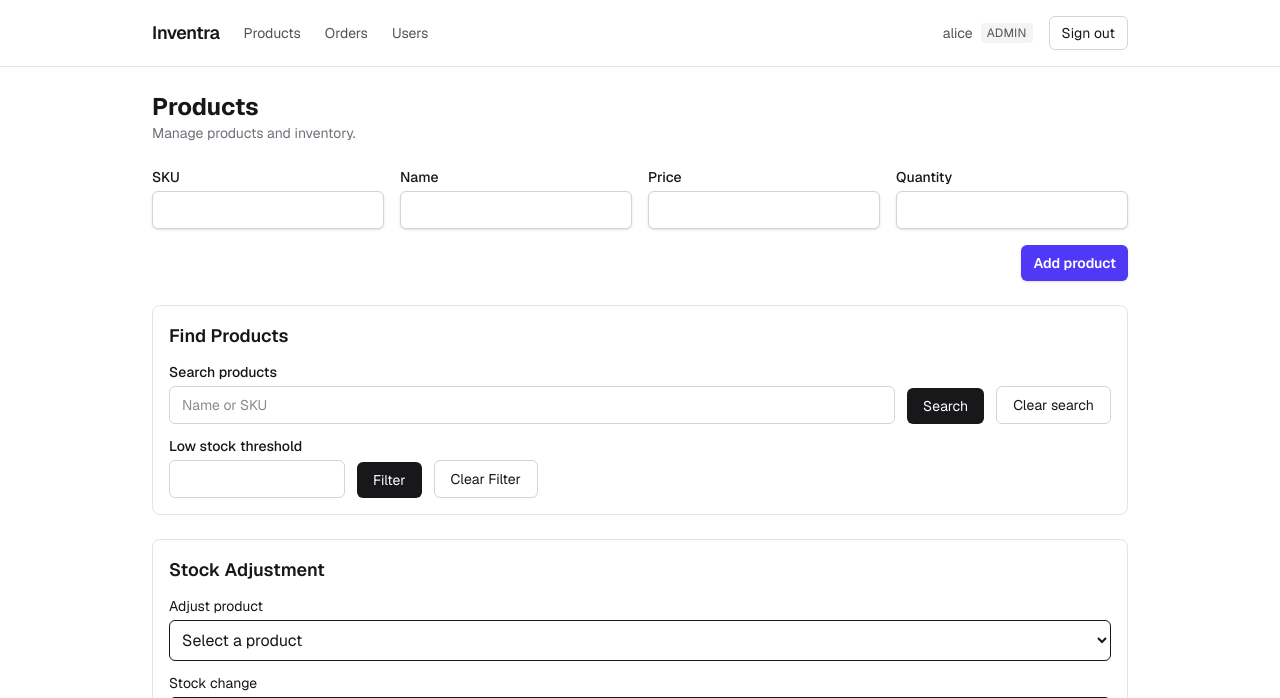
Test: ProductsPage › adds a newly created product to the table
Type "MS-002" into the field labelled "SKU" at (268, 210), box top-left (152, 191), bottom-right (384, 229)
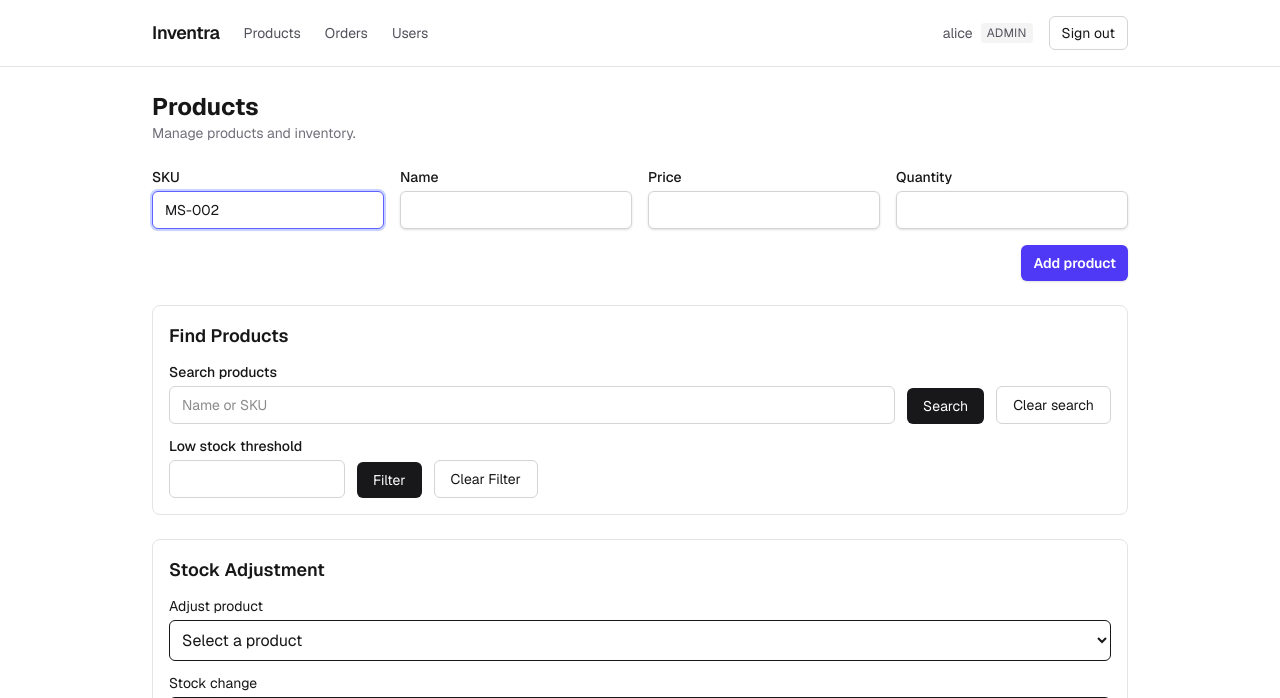
Type "Mouse" into the field labelled "Name" at (516, 210), box top-left (400, 191), bottom-right (632, 229)
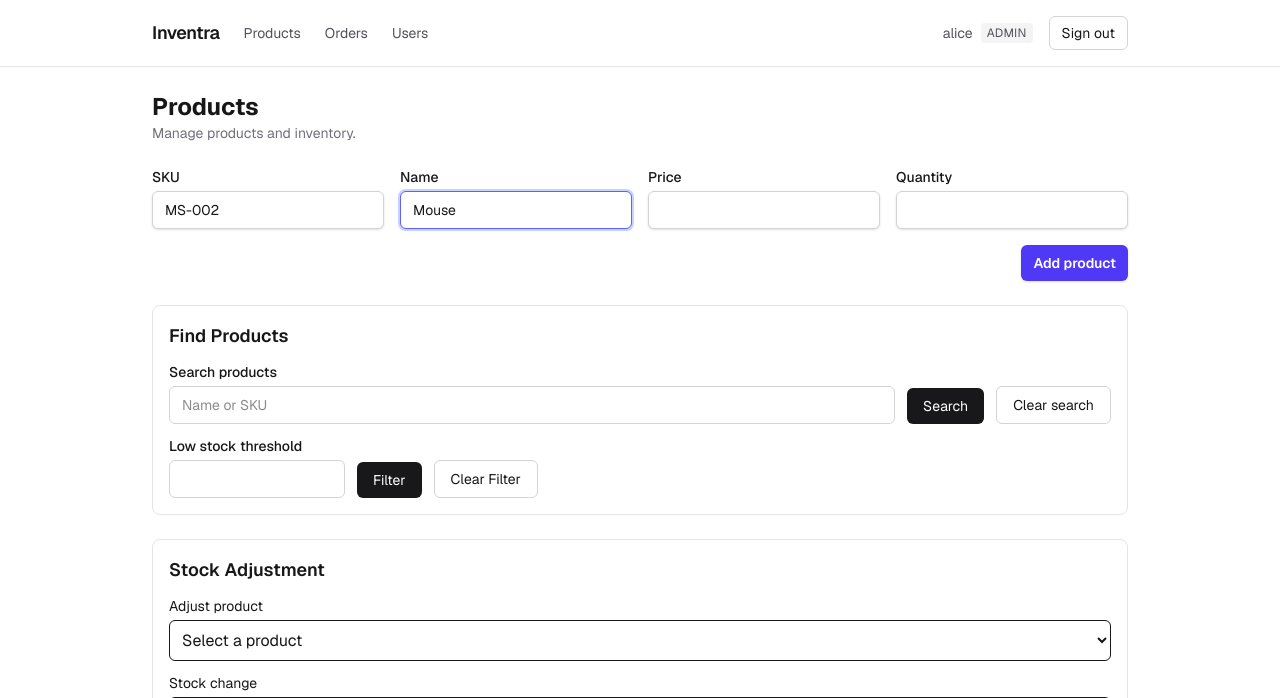
Type "25" into the number field labelled "Price" at (764, 210), box top-left (648, 191), bottom-right (880, 229)
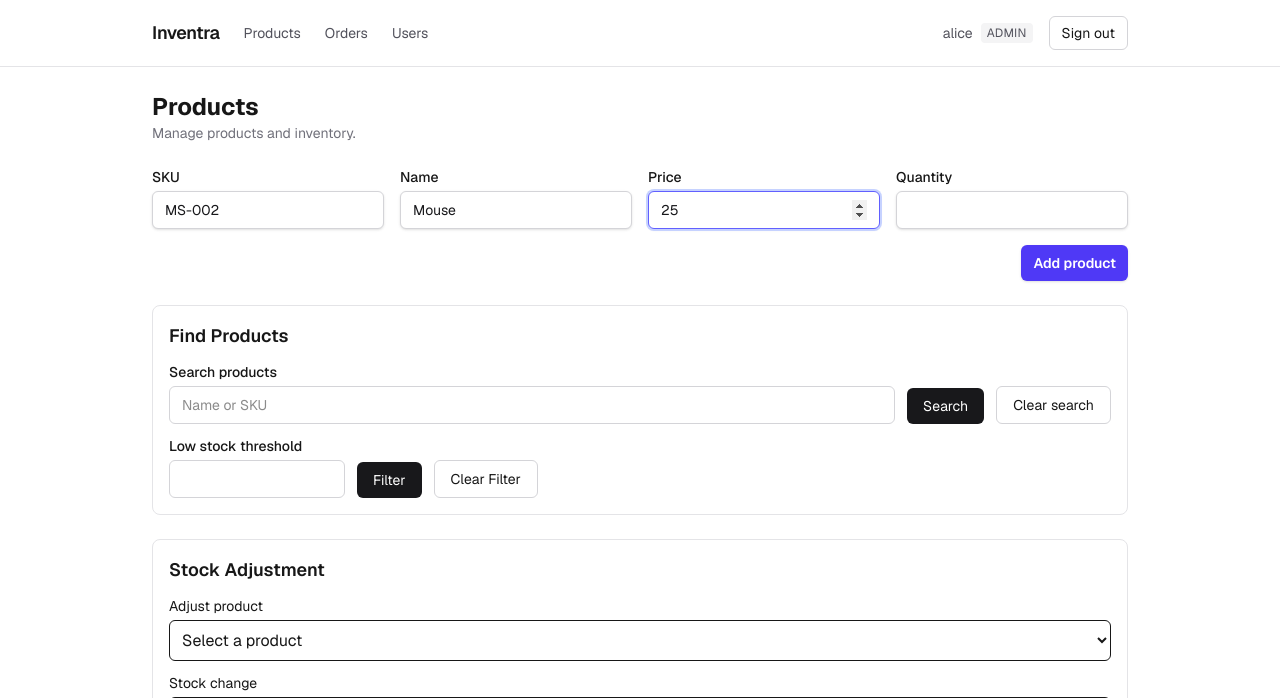
Type "10" into the number field labelled "Quantity" at (1012, 210), box top-left (896, 191), bottom-right (1128, 229)
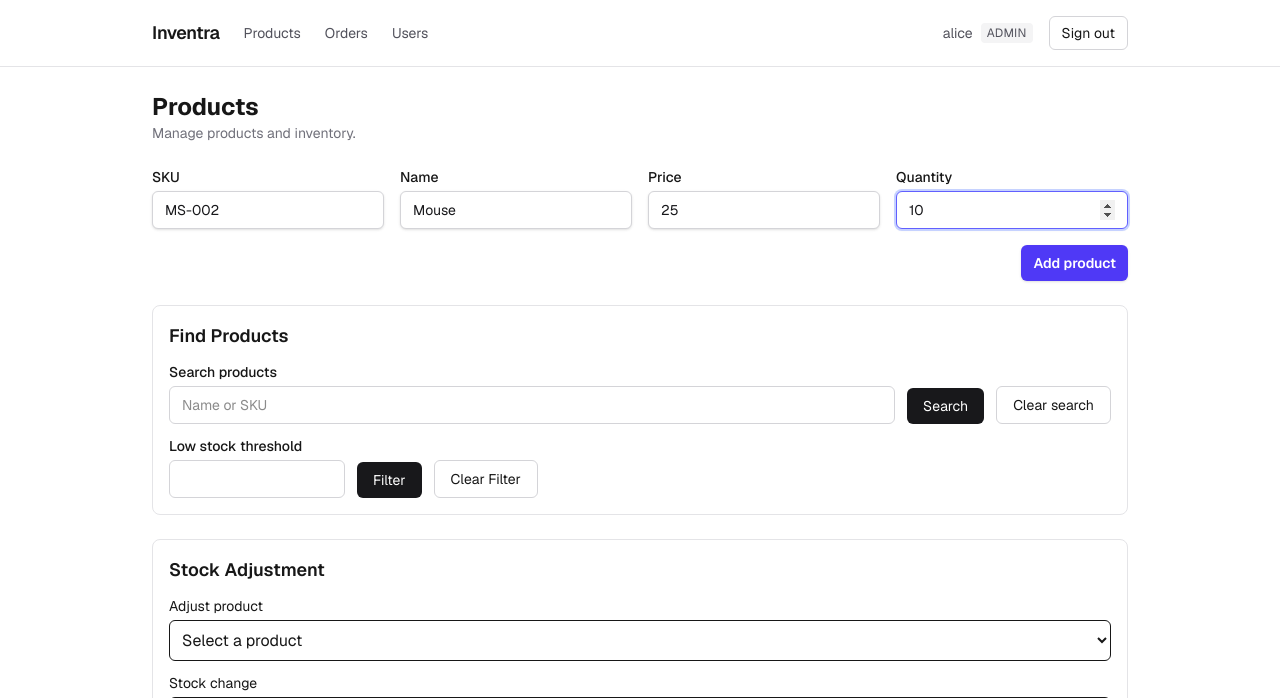
Click the button "Add product" at (1075, 263), box top-left (1022, 245), bottom-right (1128, 281)
(page scrolled)
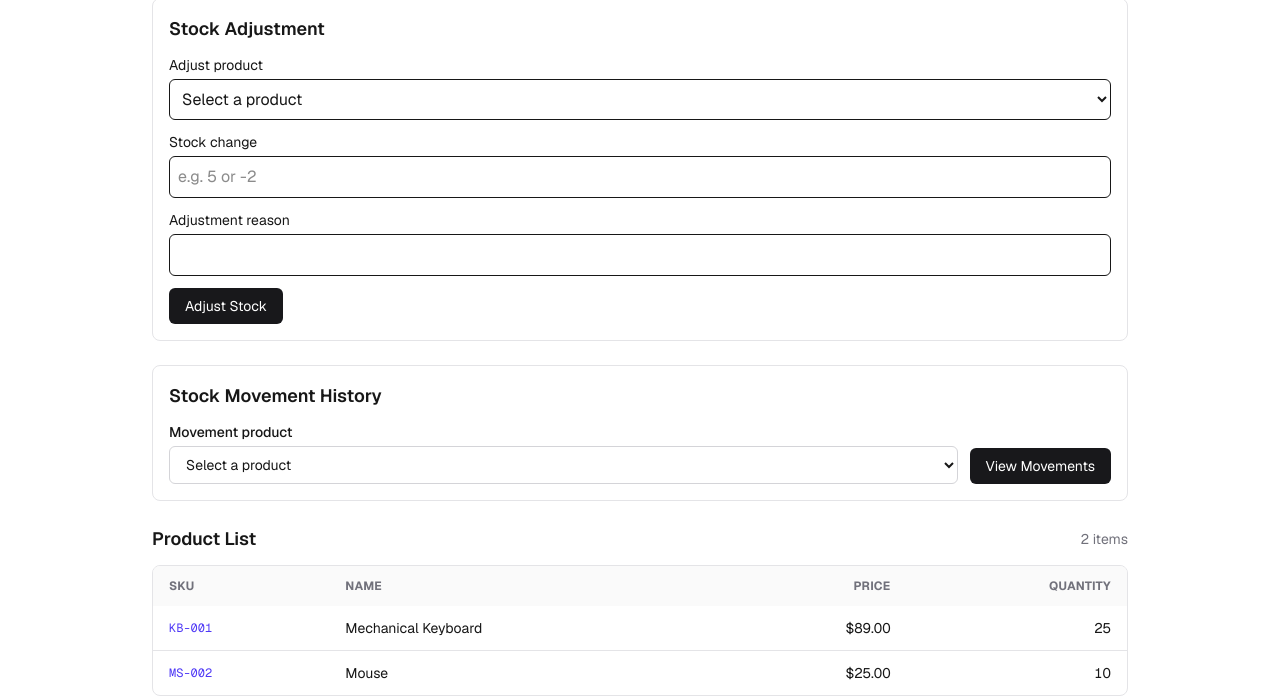
expect the text "Mouse" is shown: met, box top-left (329, 650), bottom-right (726, 695)
expect the text "2 items" is shown: met, box top-left (1081, 529), bottom-right (1128, 549)
